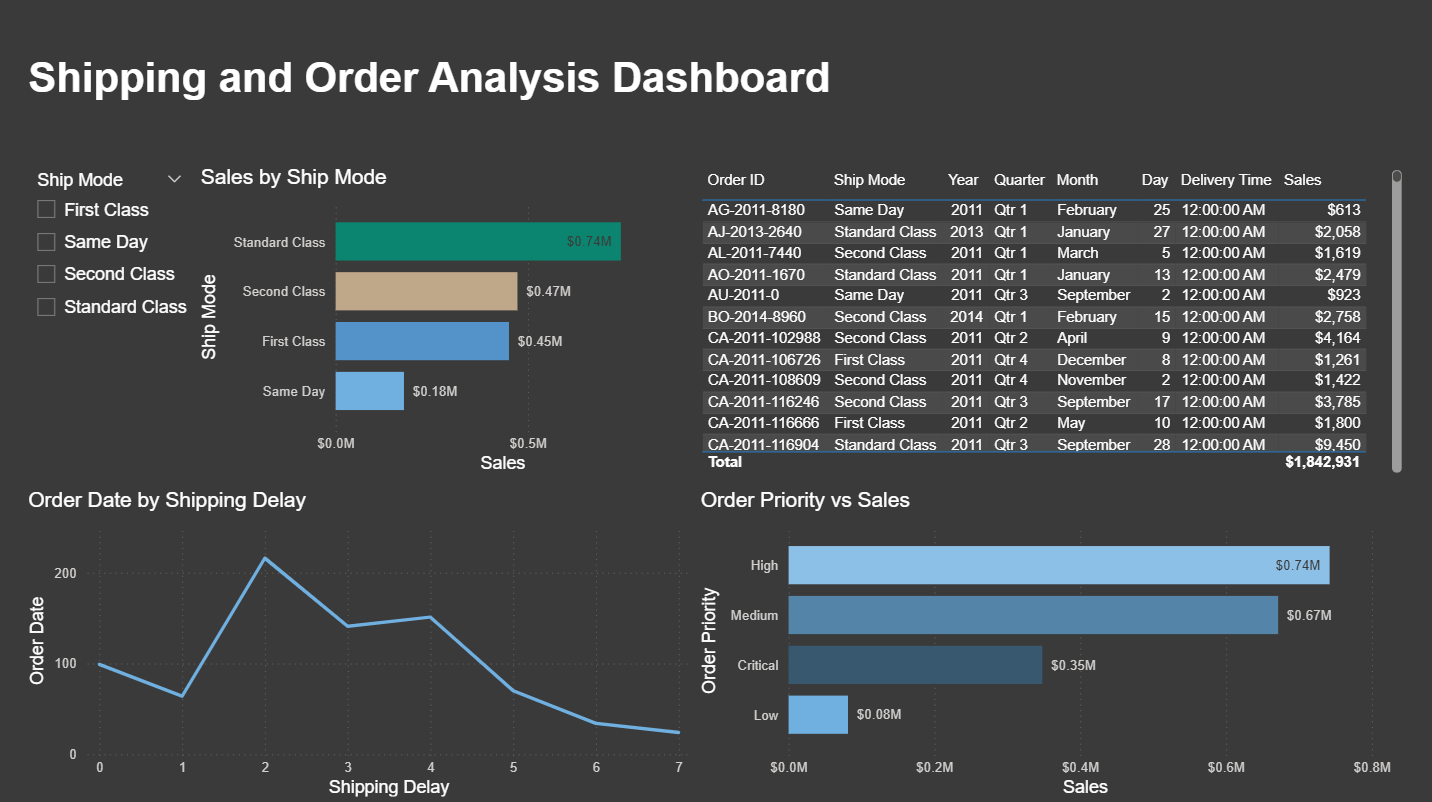

The page's visual inventory and layout, read from the dashboard file:
{"tool":"powerbi","page":{"name":"Shipping and Order Analysis Dashboard","canvas":[1280,720],"ordinal":4},"visuals":[{"type":"barChart","fields":{"Y":["Sum(Global-Superstore.Sales)"],"Category":["Global-Superstore.Ship Mode"]},"box":[175.6,151.2,446.5,280.2],"z":0},{"type":"clusteredBarChart","title":"Order Priority vs Sales","fields":{"Y":["Sum(Global-Superstore.Sales)"],"Category":["Global-Superstore.Order Priority"]},"box":[622.1,439.5,636,280.2],"z":1000},{"type":"lineChart","fields":{"Category":["Global-Superstore.Shipping Delay"],"Y":["CountNonNull(Global-Superstore.Order Date)"]},"box":[20.9,439.5,601.2,280.2],"z":2000},{"type":"slicer","fields":{"Values":["Global-Superstore.Ship Mode"]},"box":[20.9,151.2,154.7,280.2],"z":3000},{"type":"tableEx","fields":{"Values":["Global-Superstore.Order ID","Global-Superstore.Ship Mode","Global-Superstore.Ship Date.Variation.Date Hierarchy.Year","Global-Superstore.Ship Date.Variation.Date Hierarchy.Quarter","Global-Superstore.Ship Date.Variation.Date Hierarchy.Month","Global-Superstore.Ship Date.Variation.Date Hierarchy.Day","Global-Superstore.Delivery Time","Sum(Global-Superstore.Sales)"]},"box":[622.1,151.2,636,280.2],"z":4000},{"type":"textbox","box":[20.9,46.5,726.7,60.5],"z":5000}]}

Visuals, with their boxes in screenshot pixels (x1, y1, x2, y2), scaled from the page's 1280x720 canvas onto the 1432x802 screenshot:
barChart - Sum(Global-Superstore.Sales) x Global-Superstore.Ship Mode: [196,168,696,481]
"Order Priority vs Sales" clusteredBarChart: [696,490,1407,801]
lineChart - Global-Superstore.Shipping Delay x CountNonNull(Global-Superstore.Order Date): [23,490,696,801]
slicer - Global-Superstore.Ship Mode: [23,168,196,481]
tableEx - Global-Superstore.Order ID x Global-Superstore.Ship Mode: [696,168,1407,481]
textbox: [23,52,836,119]
